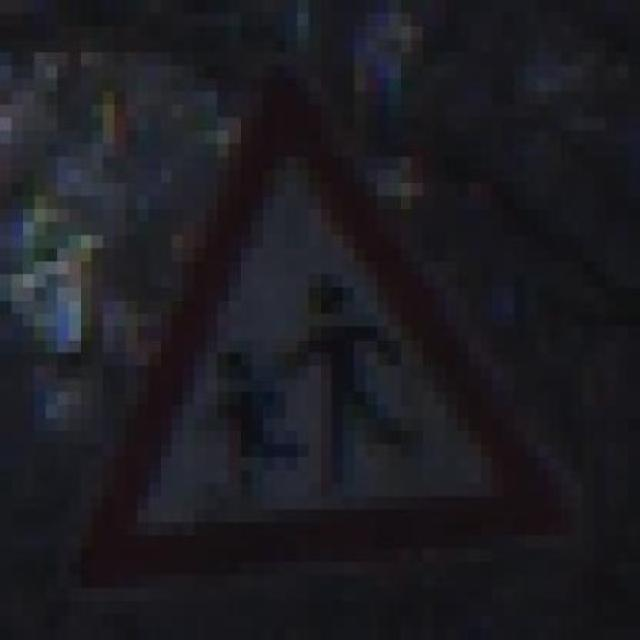Beware of children: (57, 66, 572, 574)
